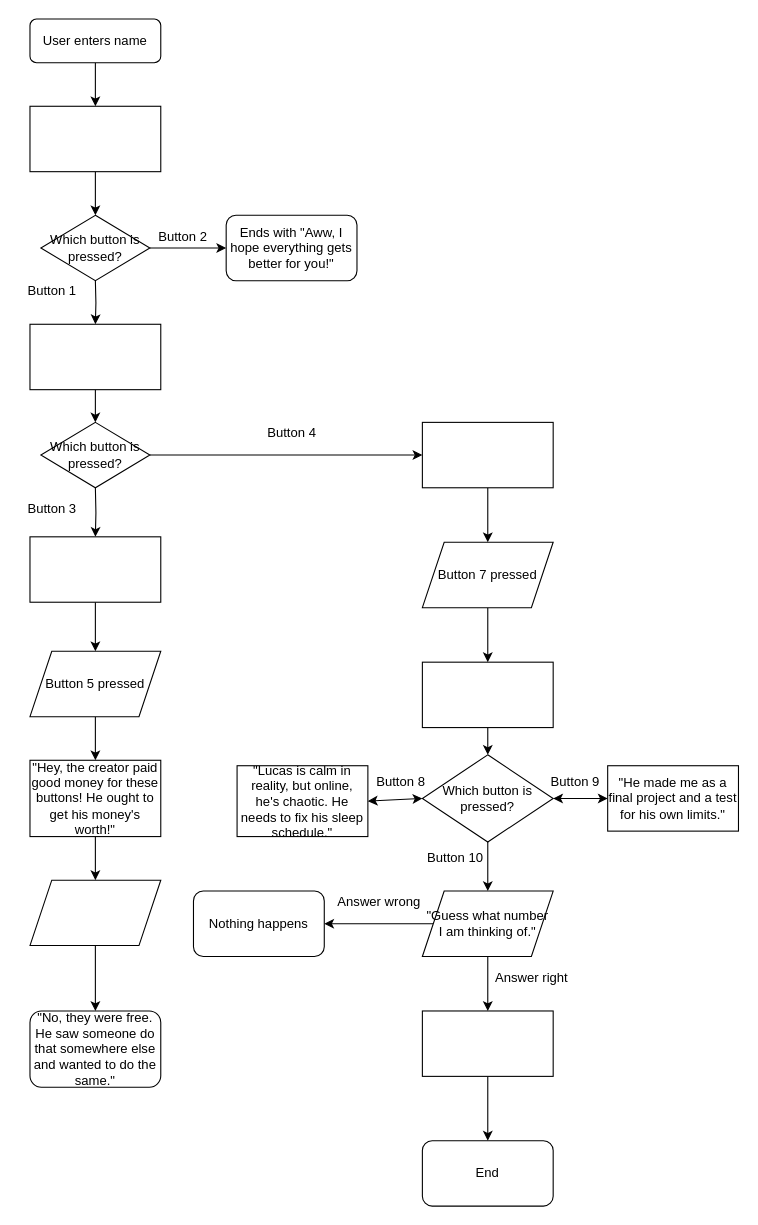
Image size: 758x1225. Some labels were removed from this diagram. Here are the shapes that lost their labels. From the top down, the centre of each, then its label:
point (95, 138): Text appears saying "Hello, [NAME]. How are you today?"
point (95, 356): "That's good to hear!"
point (487, 454): "I have no name, but I have a creator, and his name is Lucas."
point (95, 569): "I'm doing fine, actually. Pressing buttons is fun, isn't it?"
point (487, 694): "Yes. Do you have any questions?"
point (95, 912): Button 6 pressed
point (487, 1043): "Congratulations! You got it right! Have these calculators as a prize."
